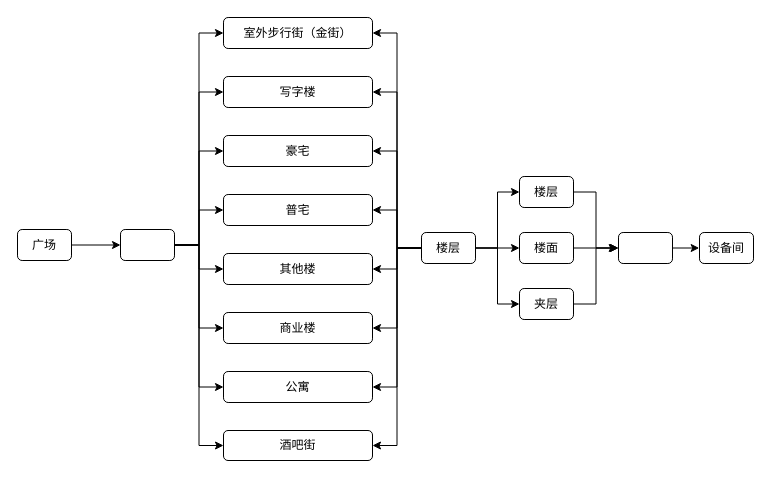
Image size: 771x478. Some labels were removed from this diagram. The box of each missing label's shape, as (x1, y1, x2, y2) in pixels:
位置区域: (618, 232, 672, 264)
楼体: (120, 228, 174, 260)
